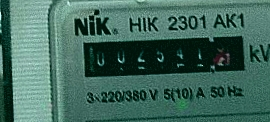0: (93, 45, 106, 67), (114, 43, 126, 64)
1: (193, 41, 204, 61)
2: (134, 43, 146, 63)
4: (174, 40, 186, 62)
5: (153, 41, 165, 64)
6: (215, 52, 226, 67)
screen: (72, 25, 256, 85)
